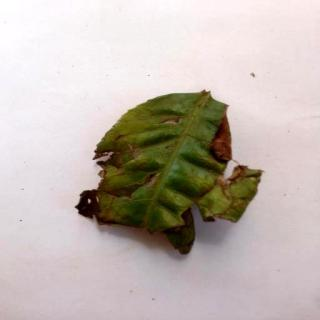Algal Leaf: (82, 89, 262, 258)
